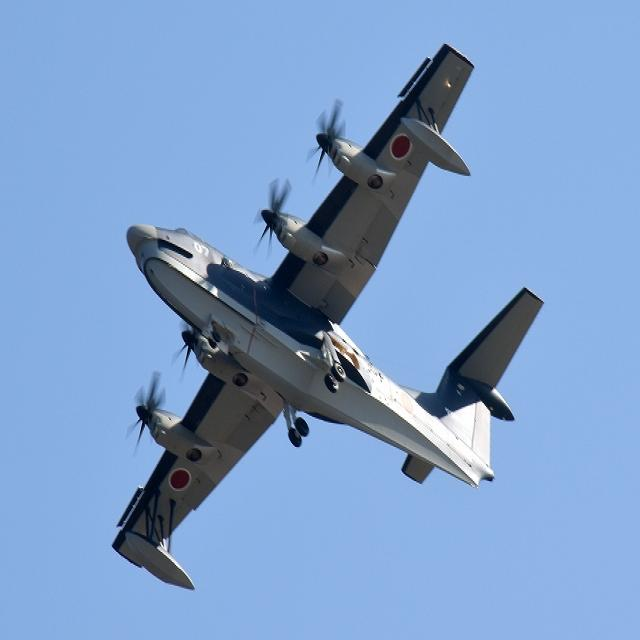MIL_Plane: (110, 41, 545, 592)
